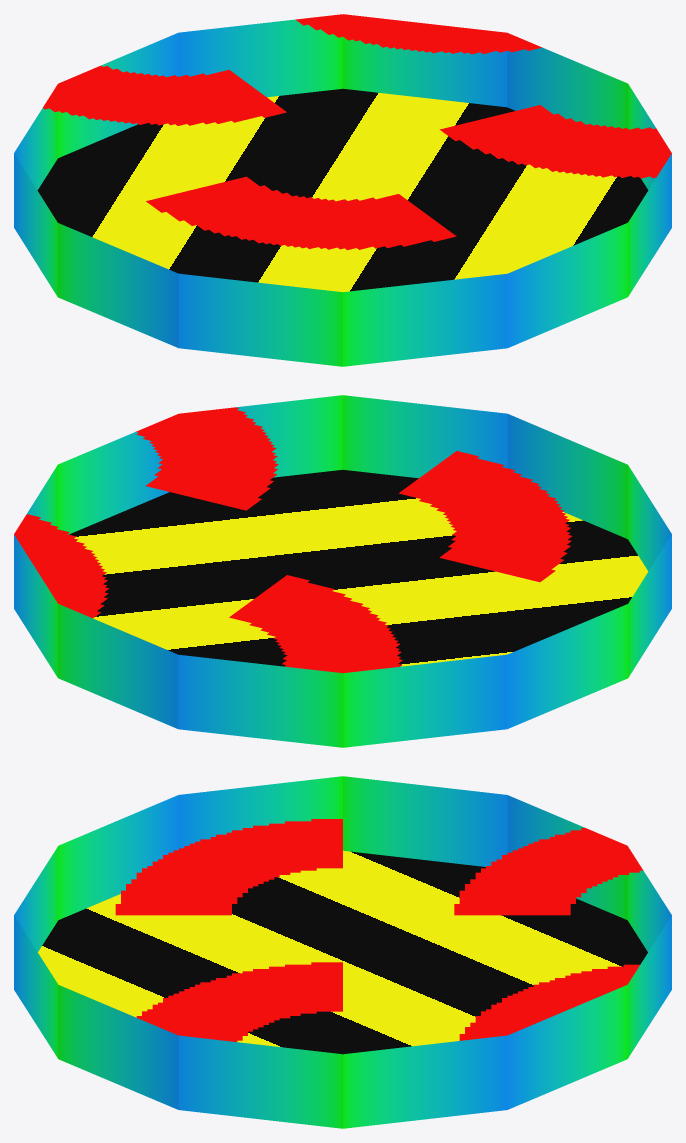
Rendered from uvmd-0259.glb.
3 renders of one model, top to bottom at view 1: azimuth 30°, elevation 25°; view 2: azimuth 150°, elevation 25°; view 3: azimuth 270°, elevation 25°, orthographic.
Visible parts, largest first — view 1: uvmd-0259; view 2: uvmd-0259; view 3: uvmd-0259.
Boxes of the visible parts, <box> form: uvmd-0259: <box>14,14,671,366</box>; uvmd-0259: <box>14,395,671,747</box>; uvmd-0259: <box>14,776,671,1128</box>.
Size of the model in its own units: 800 by 100 by 800.
3 materials, 3 textured.
